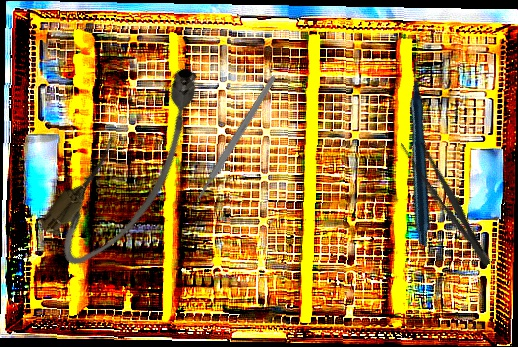Cannula: (30, 54, 235, 281)
Dressing Forceps: (396, 132, 499, 272)
Handpiece: (332, 54, 514, 248)
Scalpel Handle: (193, 73, 279, 203)
